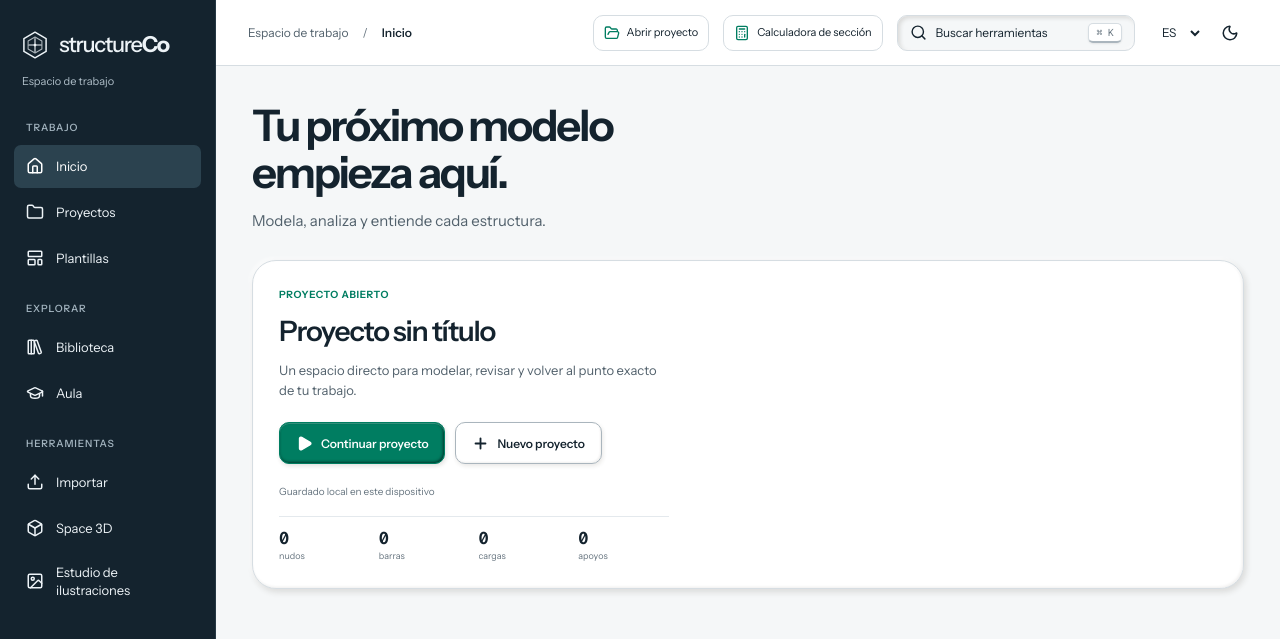
it: Studio Home workflows › opens a destination from the global keyboard search
Type keys "{Control>}k{/Control}"
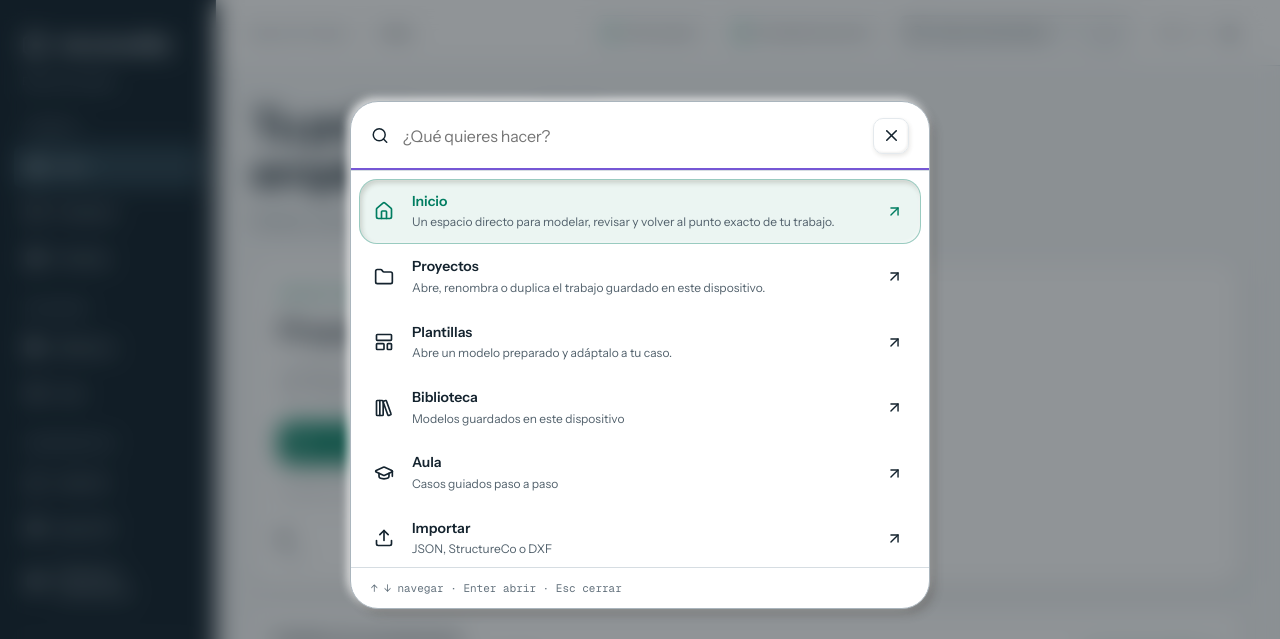
Type "plantillas" into the dropdown at (631, 136), box top-left (401, 123), bottom-right (861, 149)
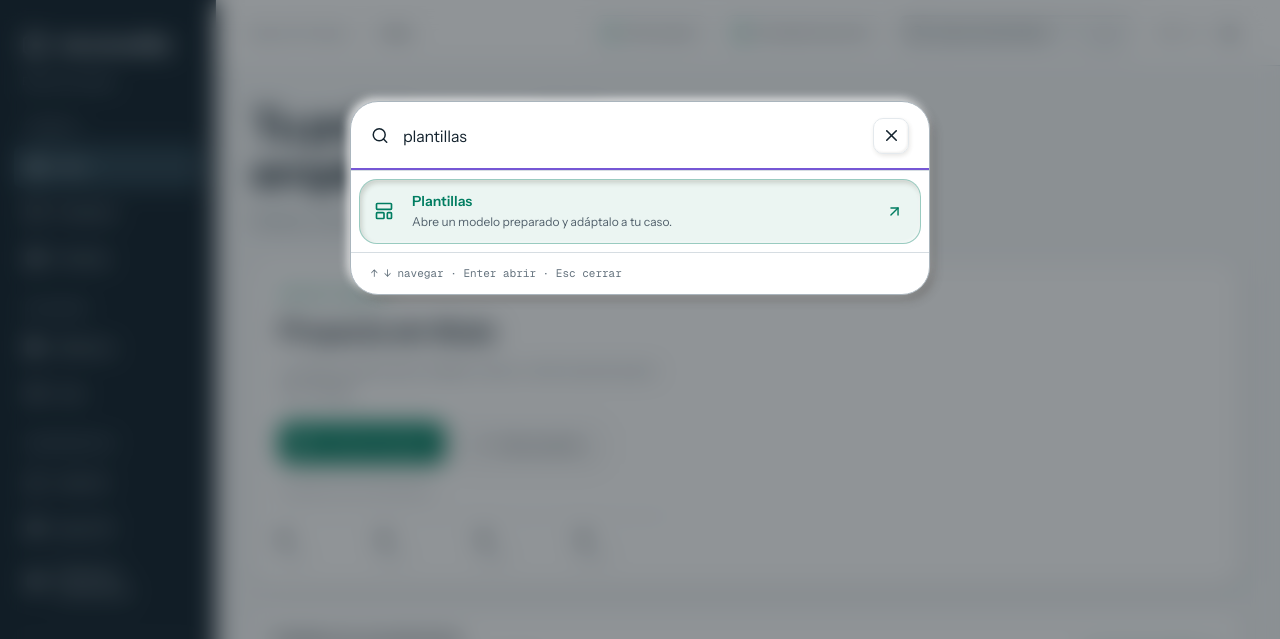
Press Enter
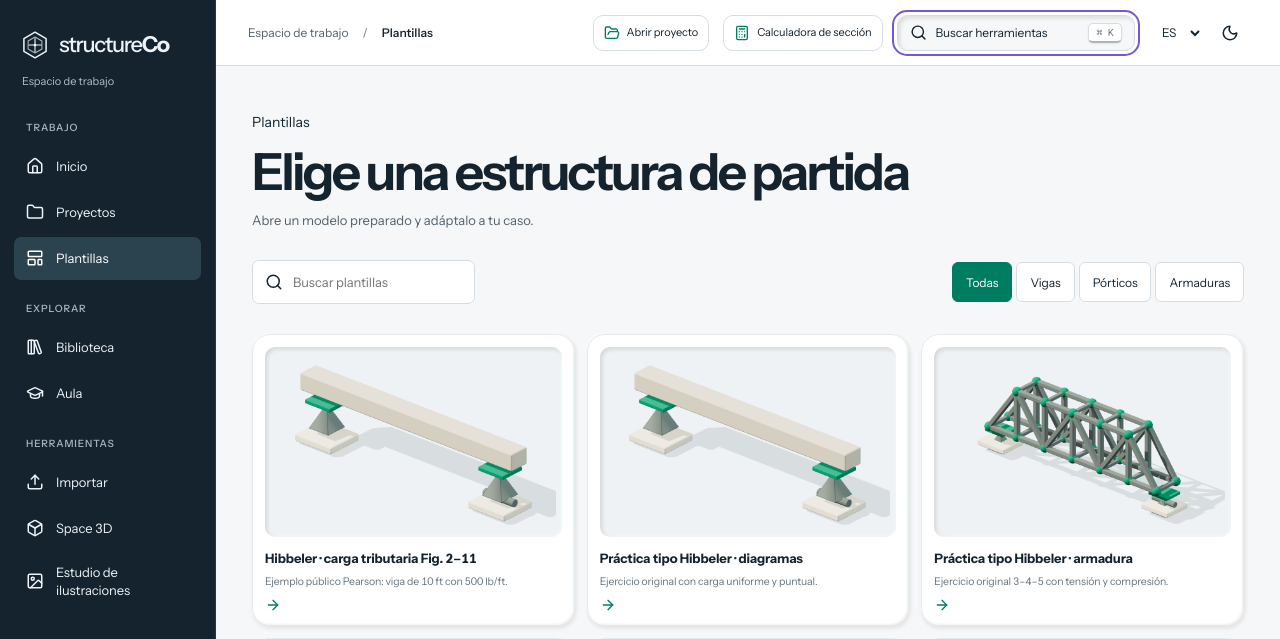
Result: the dialog is gone
Result: the heading "Elige una estructura de partida" is shown at top-left (252, 147), bottom-right (1012, 197)
